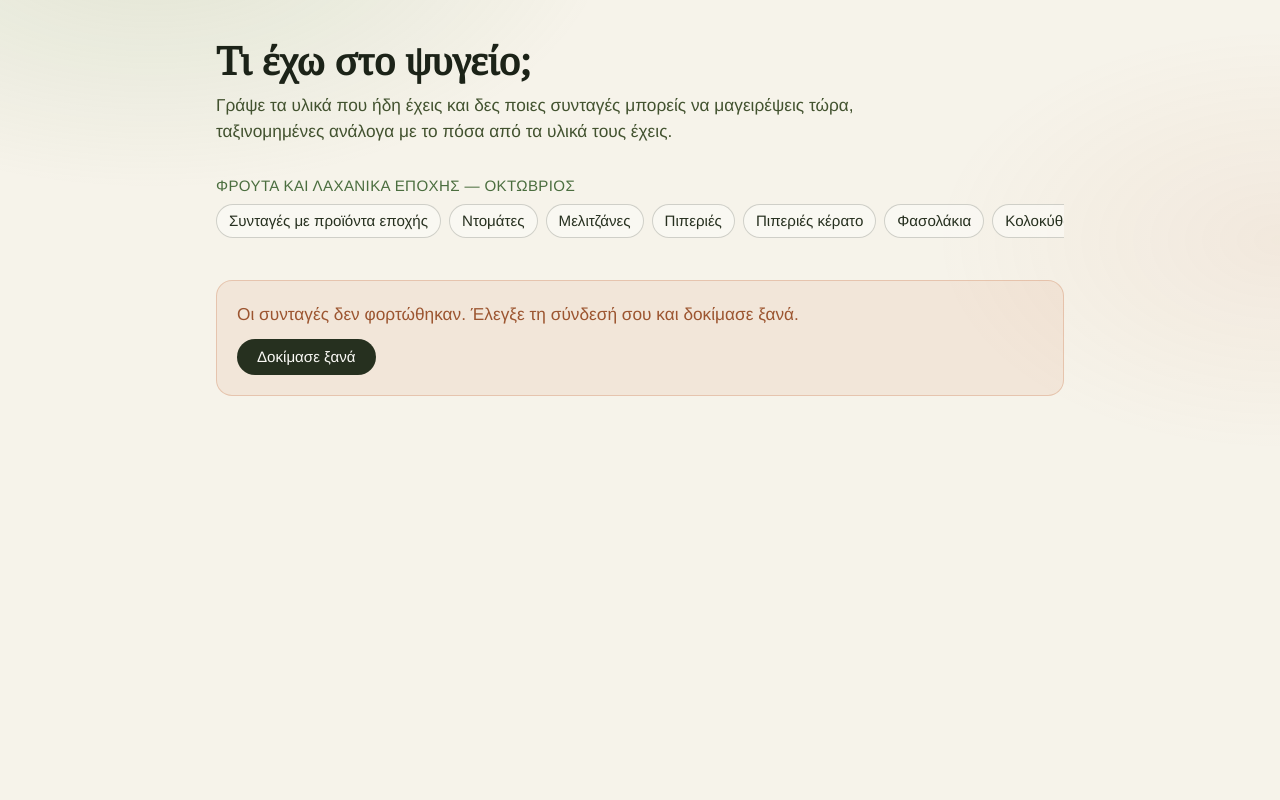
Test: <FridgePage> async states (P5.1) › shows the fridge error copy with a Retry that re-reads the catalogue
Expected: the message shows "Οι συνταγές δεν φορτώθηκαν. Έλεγξε τη σύνδεσή σου και δοκίμασε ξανά.", x1=237 y1=304 x2=799 y2=324
What coordinates should you click on to do the following:
click the button "Δοκίμασε ξανά"
I would click on:
 (306, 357)
Its box is x1=237 y1=339 x2=376 y2=375.
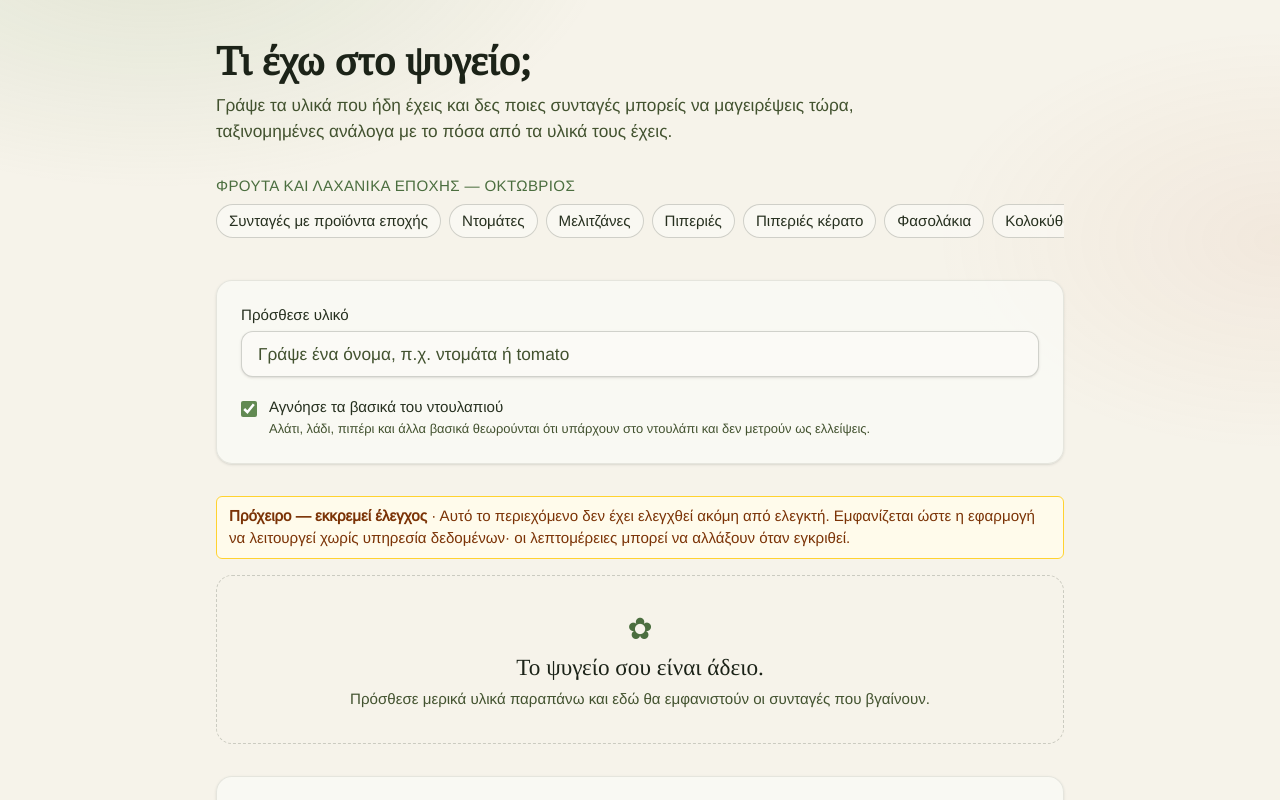
Now the dropdown is shown, box x1=241 y1=331 x2=1039 y2=377
Now the message is gone
Now the text "Το ψυγείο σου είναι άδειο." is shown, box x1=516 y1=652 x2=764 y2=680
